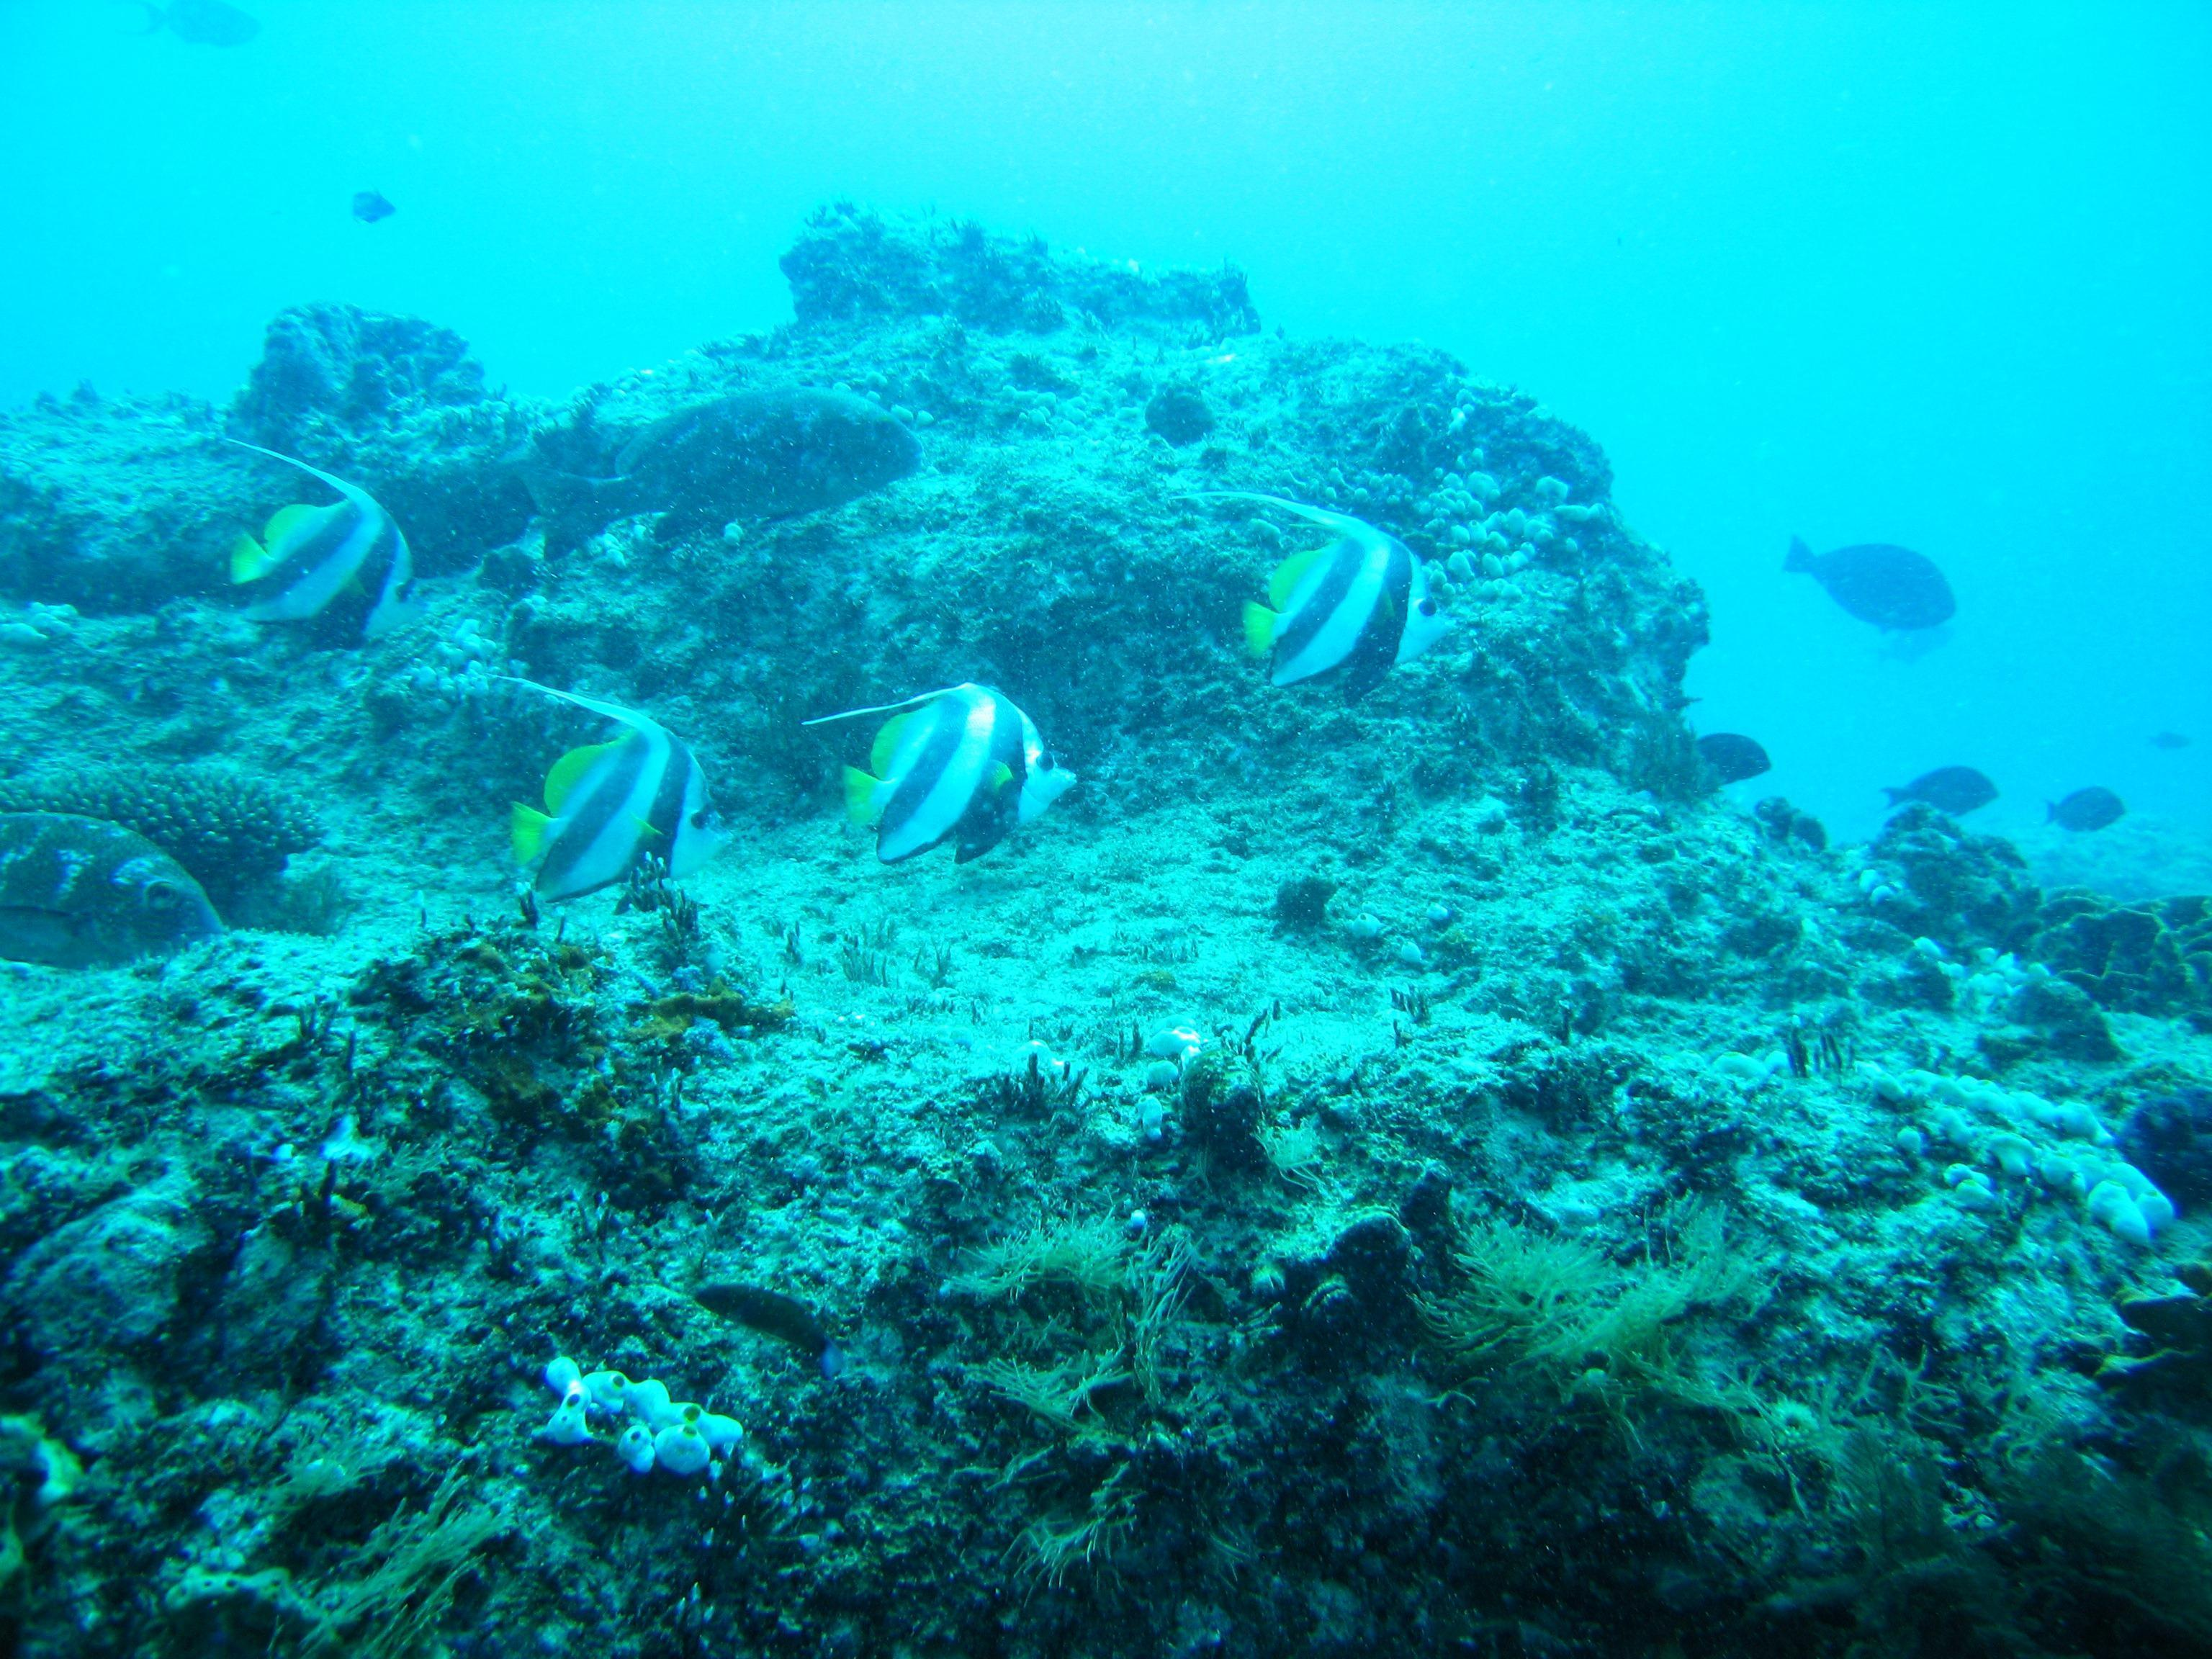Heniochus diphreutes: (1200, 455, 1484, 755), (482, 659, 751, 941), (181, 429, 451, 694), (806, 674, 1115, 906)
